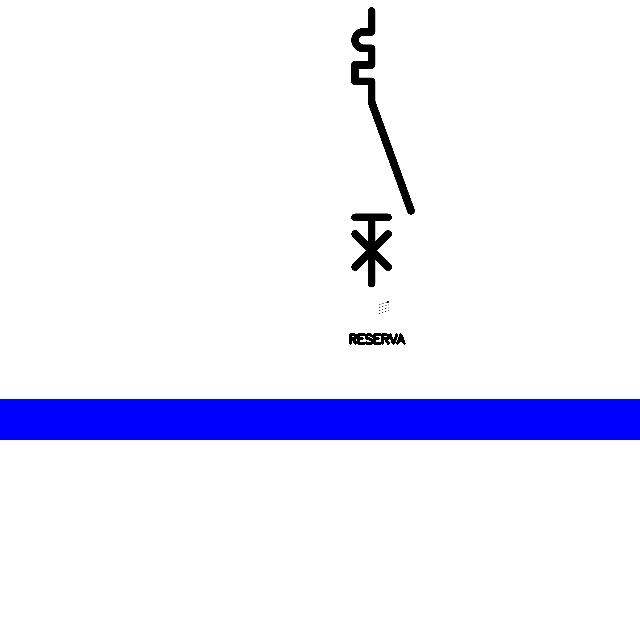interruptor_termomagnetico: (348, 4, 418, 290)
